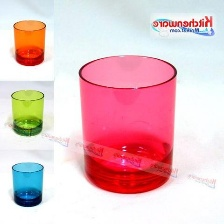glass: (70, 47, 182, 206), (6, 85, 47, 139), (10, 17, 50, 70), (3, 160, 46, 208)
